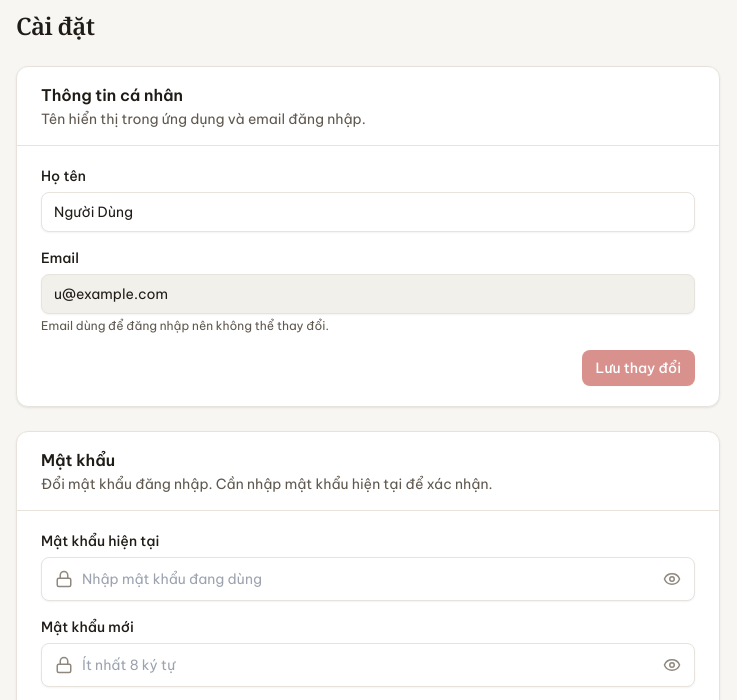
Test: SettingsPage — thông tin cá nhân › email chỉ xem; lưu họ tên -> gọi API (đã trim) và cập nhật store
Expected: the field labelled "Email" is disabled, [41,274,695,314]
Expected: the button "Lưu thay đổi" is disabled, [582,350,695,386]
Replace the text in the field labelled "Họ tên" with "  Tên Mới " at point(368, 212), box [41,192,695,232]
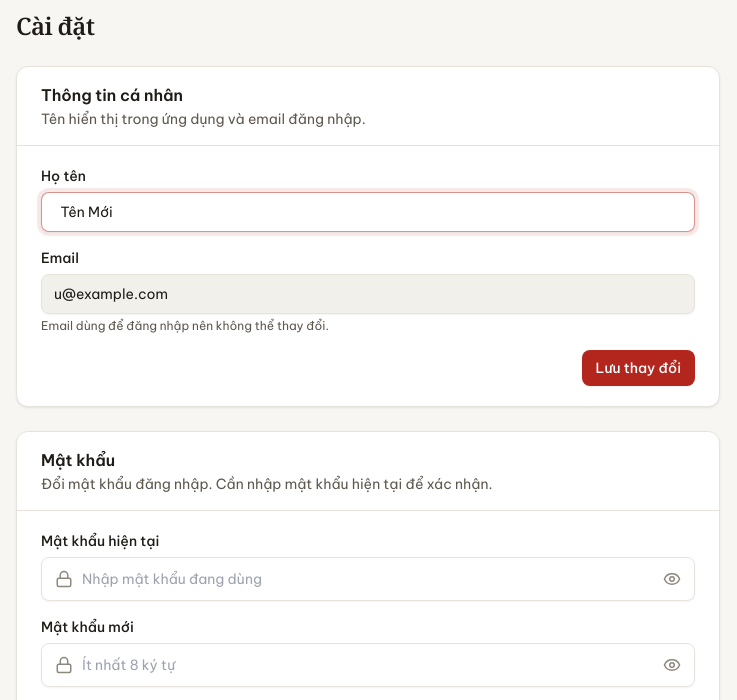
Click the button "Lưu thay đổi" at point(638, 368), box [582,350,695,386]
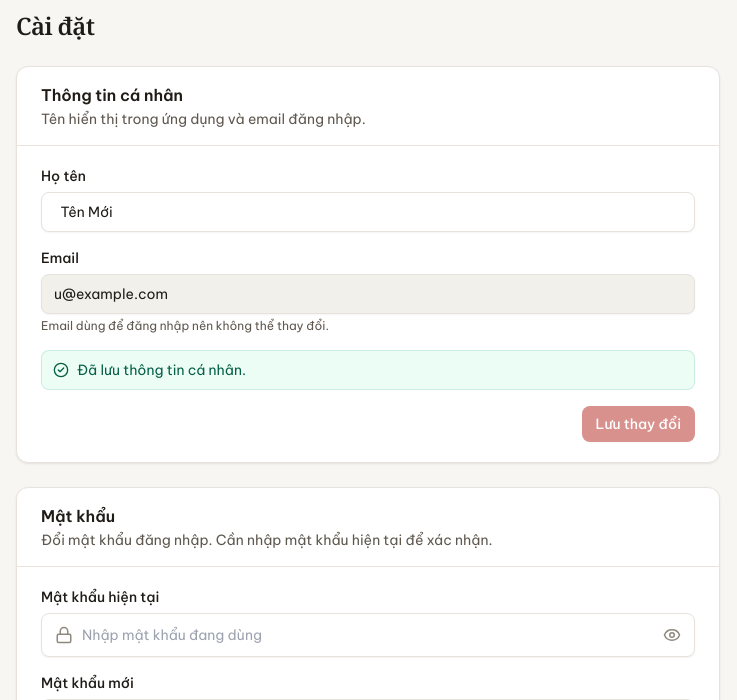
Result: the text "Đã lưu thông tin cá nhân." is shown at [77,360,246,380]
